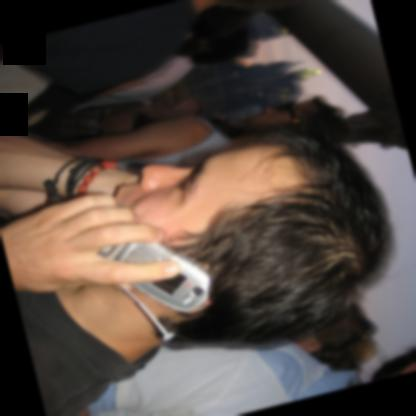backpack: (0, 53, 146, 135)
